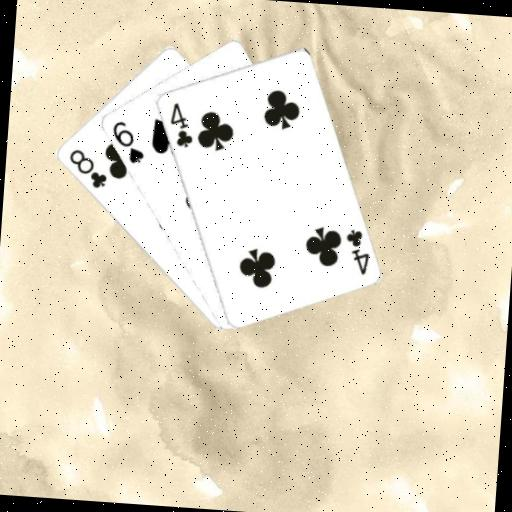4C: (340, 225, 373, 277), (165, 99, 197, 150)
6S: (106, 117, 148, 166)
8C: (63, 146, 110, 191)
